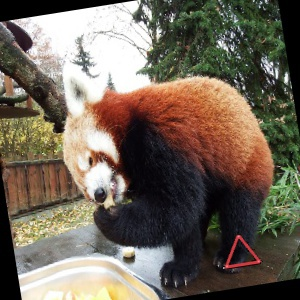triangle: (221, 232, 264, 271)
